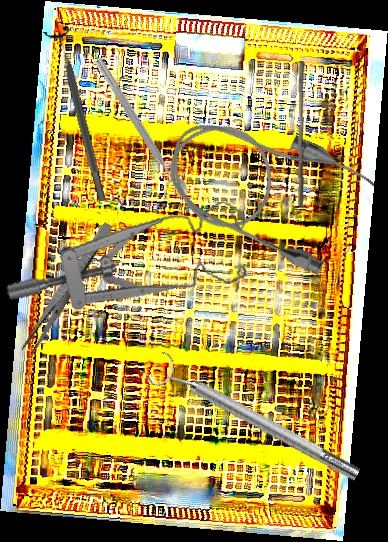Cannula: (150, 91, 380, 282)
Dressing Forceps: (19, 219, 115, 357)
Fixation Ring: (145, 347, 367, 494), (83, 55, 191, 205), (42, 25, 116, 205)
Pusher: (293, 60, 310, 209)
Speculum: (3, 167, 259, 340)
